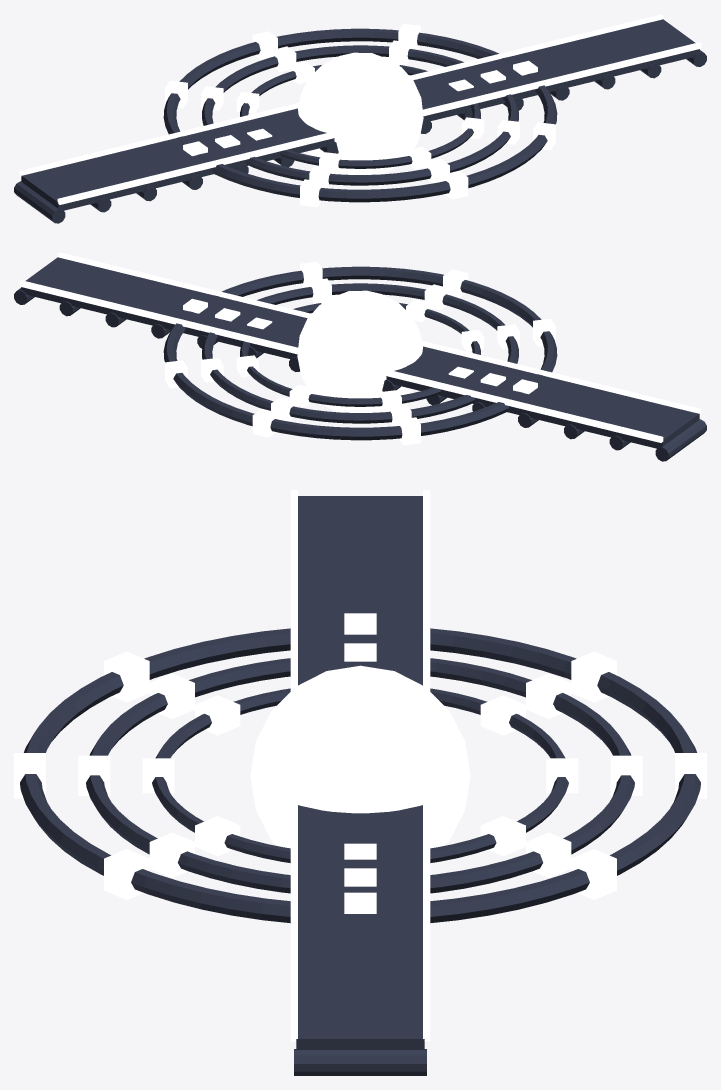
File: engine.glb
3 views of the same model, one above another, from view 1: azimuth 30°, elevation 25°; view 2: azimuth 150°, elevation 25°; view 3: azimuth 270°, elevation 25° (orthographic). The views are drawn at different scales.
Parts seen in each view (by area): view 1: Conveyor, Ring_3, Core, Ring_2, Ring_1; view 2: Conveyor, Ring_3, Core, Ring_2, Ring_1; view 3: Conveyor, Ring_3, Core, Ring_2, Ring_1.
Part boxes in pixels (bbox=[...]): Conveyor: bbox=[14, 14, 706, 223]; Ring_3: bbox=[163, 23, 557, 207]; Core: bbox=[298, 52, 423, 174]; Ring_2: bbox=[201, 40, 519, 188]; Ring_1: bbox=[236, 57, 484, 173]; Conveyor: bbox=[14, 252, 706, 461]; Ring_3: bbox=[163, 261, 557, 445]; Core: bbox=[297, 290, 422, 412]; Ring_2: bbox=[201, 278, 519, 426]; Ring_1: bbox=[236, 295, 484, 411]; Conveyor: bbox=[290, 490, 430, 1075]; Ring_3: bbox=[14, 613, 706, 923]; Core: bbox=[250, 665, 470, 848]; Ring_2: bbox=[78, 643, 642, 893]; Ring_1: bbox=[142, 688, 578, 862].
Bounding box in the file's own units: 14.29 × 2.4 × 7.55.
